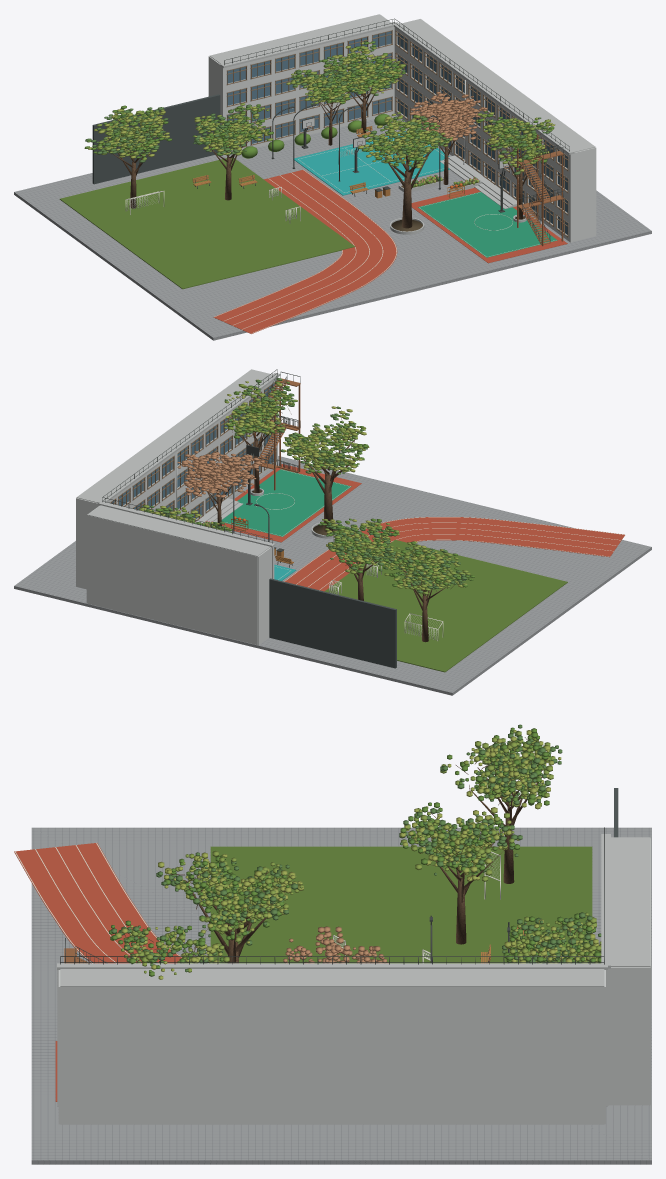
The model's file is campus-courtyard.glb.
3 renders of one model, top to bottom at view 1: azimuth 30°, elevation 25°; view 2: azimuth 150°, elevation 25°; view 3: azimuth 270°, elevation 25°, orthographic. The views are drawn at different scales.
Parts seen in each view (by area): view 1: SITE-PAVERS, LAWN-L, BLD-B-SHELL, TRACK-ARC, BLD-A-SHELL, BACKDROP-WEST-FRAGMENT, COURT-E-IN, COURT-NE, TREE-01, TREE-06, TREE-02, TREE-05 (+8 smaller); view 2: SITE-PAVERS, BLD-A-SHELL, LAWN-L, BLD-B-SHELL, BACKDROP-WEST-FRAGMENT, TRACK-ARC, COURT-E-IN, TREE-01, TREE-06, TREE-02, TREE-05, TREE-04 (+5 smaller); view 3: BLD-B-SHELL, SITE-PAVERS, LAWN-L, BLD-A-SHELL, TRACK-ARC, TREE-01, TREE-02, TREE-06, TREE-05, TREE-07, TREE-03, TREE-04 (+1 smaller).
Part boxes in pixels (x1,y1,x2,y2): SITE-PAVERS: (14, 115, 651, 340); LAWN-L: (59, 157, 355, 289); BLD-B-SHELL: (394, 19, 596, 242); TRACK-ARC: (213, 169, 397, 333); BLD-A-SHELL: (208, 14, 396, 155); BACKDROP-WEST-FRAGMENT: (92, 94, 220, 184); COURT-E-IN: (418, 192, 557, 257); COURT-NE: (294, 131, 449, 195); TREE-01: (358, 112, 453, 228); TREE-06: (84, 105, 172, 208); TREE-02: (192, 103, 273, 200); TREE-05: (476, 111, 555, 219); SITE-PAVERS: (14, 456, 651, 695); BLD-A-SHELL: (86, 502, 275, 645); LAWN-L: (324, 540, 567, 672); BLD-B-SHELL: (76, 369, 280, 589); BACKDROP-WEST-FRAGMENT: (269, 578, 396, 668); TRACK-ARC: (284, 517, 624, 591); COURT-E-IN: (221, 469, 351, 536); TREE-01: (280, 406, 369, 531); TREE-06: (377, 541, 474, 642); TREE-02: (318, 518, 399, 600); TREE-05: (223, 378, 297, 493); TREE-04: (177, 451, 264, 525); BLD-B-SHELL: (57, 963, 607, 1124); SITE-PAVERS: (31, 827, 651, 1164); LAWN-L: (210, 846, 592, 963); BLD-A-SHELL: (601, 834, 650, 1105); TRACK-ARC: (14, 843, 181, 963); TREE-01: (156, 851, 303, 963); TREE-02: (399, 802, 522, 944); TREE-06: (440, 724, 562, 883); TREE-05: (109, 913, 235, 979); TREE-07: (509, 912, 601, 963); TREE-03: (502, 933, 601, 963); TREE-04: (283, 926, 388, 963).
Size of the model in its own units: 66 by 15.62 by 53.5.
25 materials, 2 textured.
